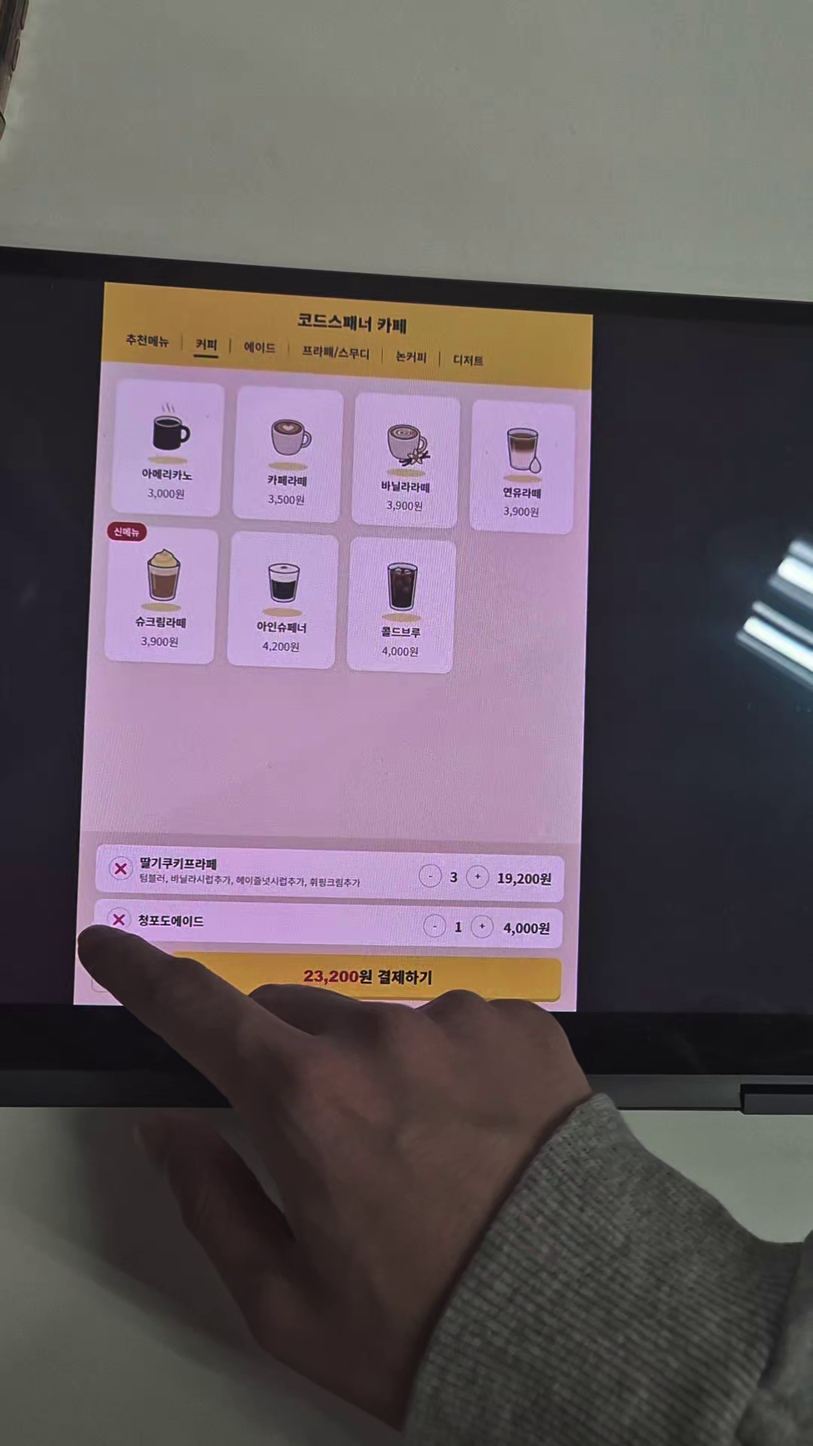action_button: (167, 953, 561, 1002)
cart_item: (96, 844, 564, 904), (94, 899, 563, 949)
category_tab: (301, 343, 371, 362), (124, 331, 171, 350), (242, 339, 276, 356), (395, 349, 427, 366), (451, 353, 485, 368), (193, 337, 218, 353)
menu_back: (103, 522, 220, 666), (110, 379, 225, 517), (226, 531, 339, 668), (232, 386, 344, 523), (346, 538, 458, 674), (351, 393, 460, 529), (469, 400, 576, 535)
menu_name: (253, 617, 310, 636), (377, 478, 433, 496), (140, 466, 195, 484), (131, 614, 189, 631), (377, 624, 424, 642), (264, 472, 310, 489), (501, 485, 543, 501)
menu_price: (137, 634, 182, 652), (258, 638, 302, 655), (144, 486, 186, 502), (266, 492, 306, 508), (501, 504, 541, 520), (379, 644, 420, 659), (384, 498, 424, 513)
